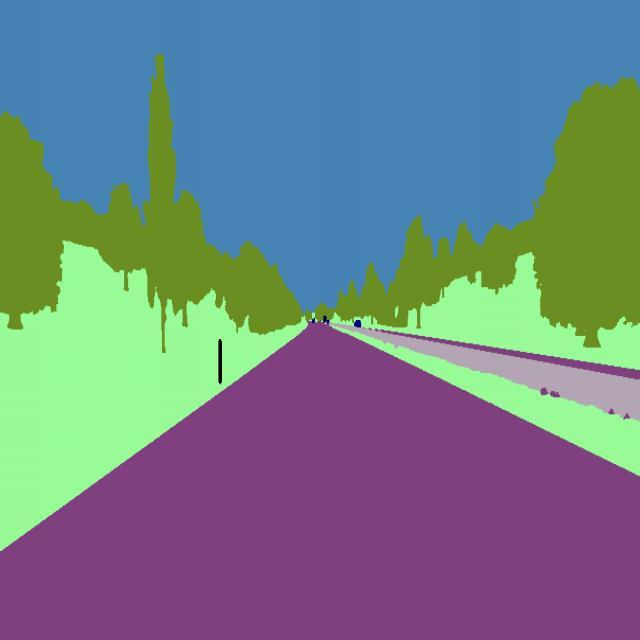safe: (352, 315, 364, 332)
